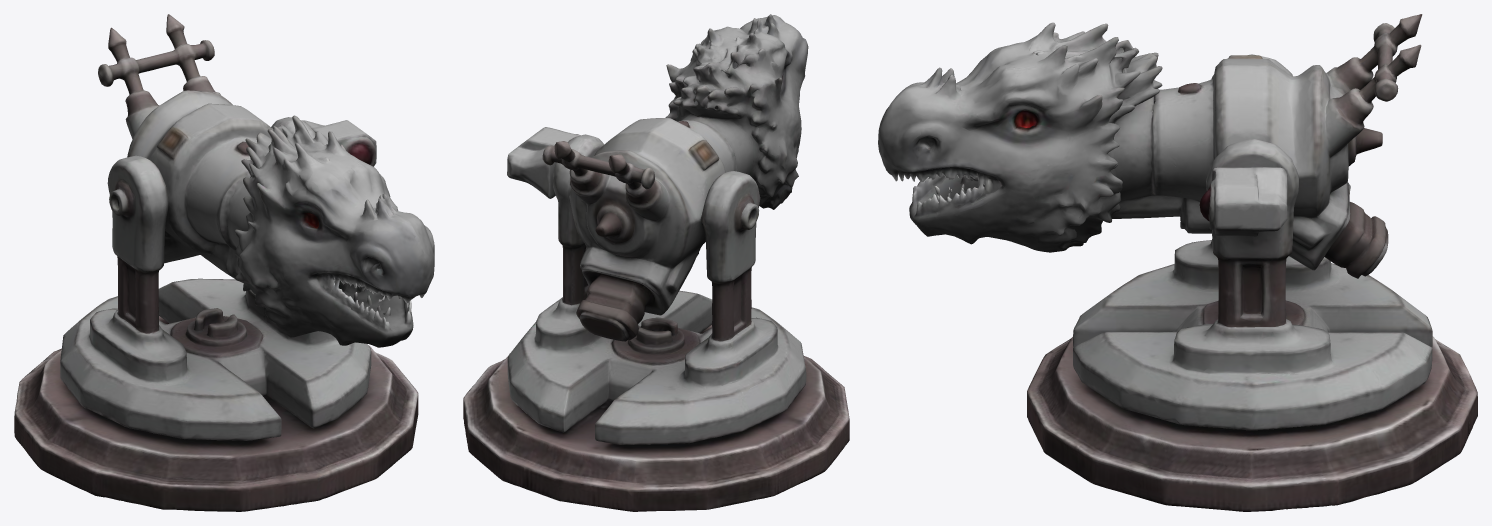
Rendered from turret.glb.
3 views of the same model, side by side, from view 1: azimuth 30°, elevation 25°; view 2: azimuth 150°, elevation 25°; view 3: azimuth 270°, elevation 25° (orthographic). The views are drawn at different scales.
Visible parts, largest first — view 1: geometry_0; view 2: geometry_0; view 3: geometry_0.
Boxes of the visible parts, box(x1,y1,x2,y2) form: geometry_0: box(14, 14, 434, 511); geometry_0: box(463, 14, 849, 511); geometry_0: box(878, 14, 1477, 511).
Size of the model in its own units: 0.7534 by 0.7202 by 1.
1 material, 1 textured.
